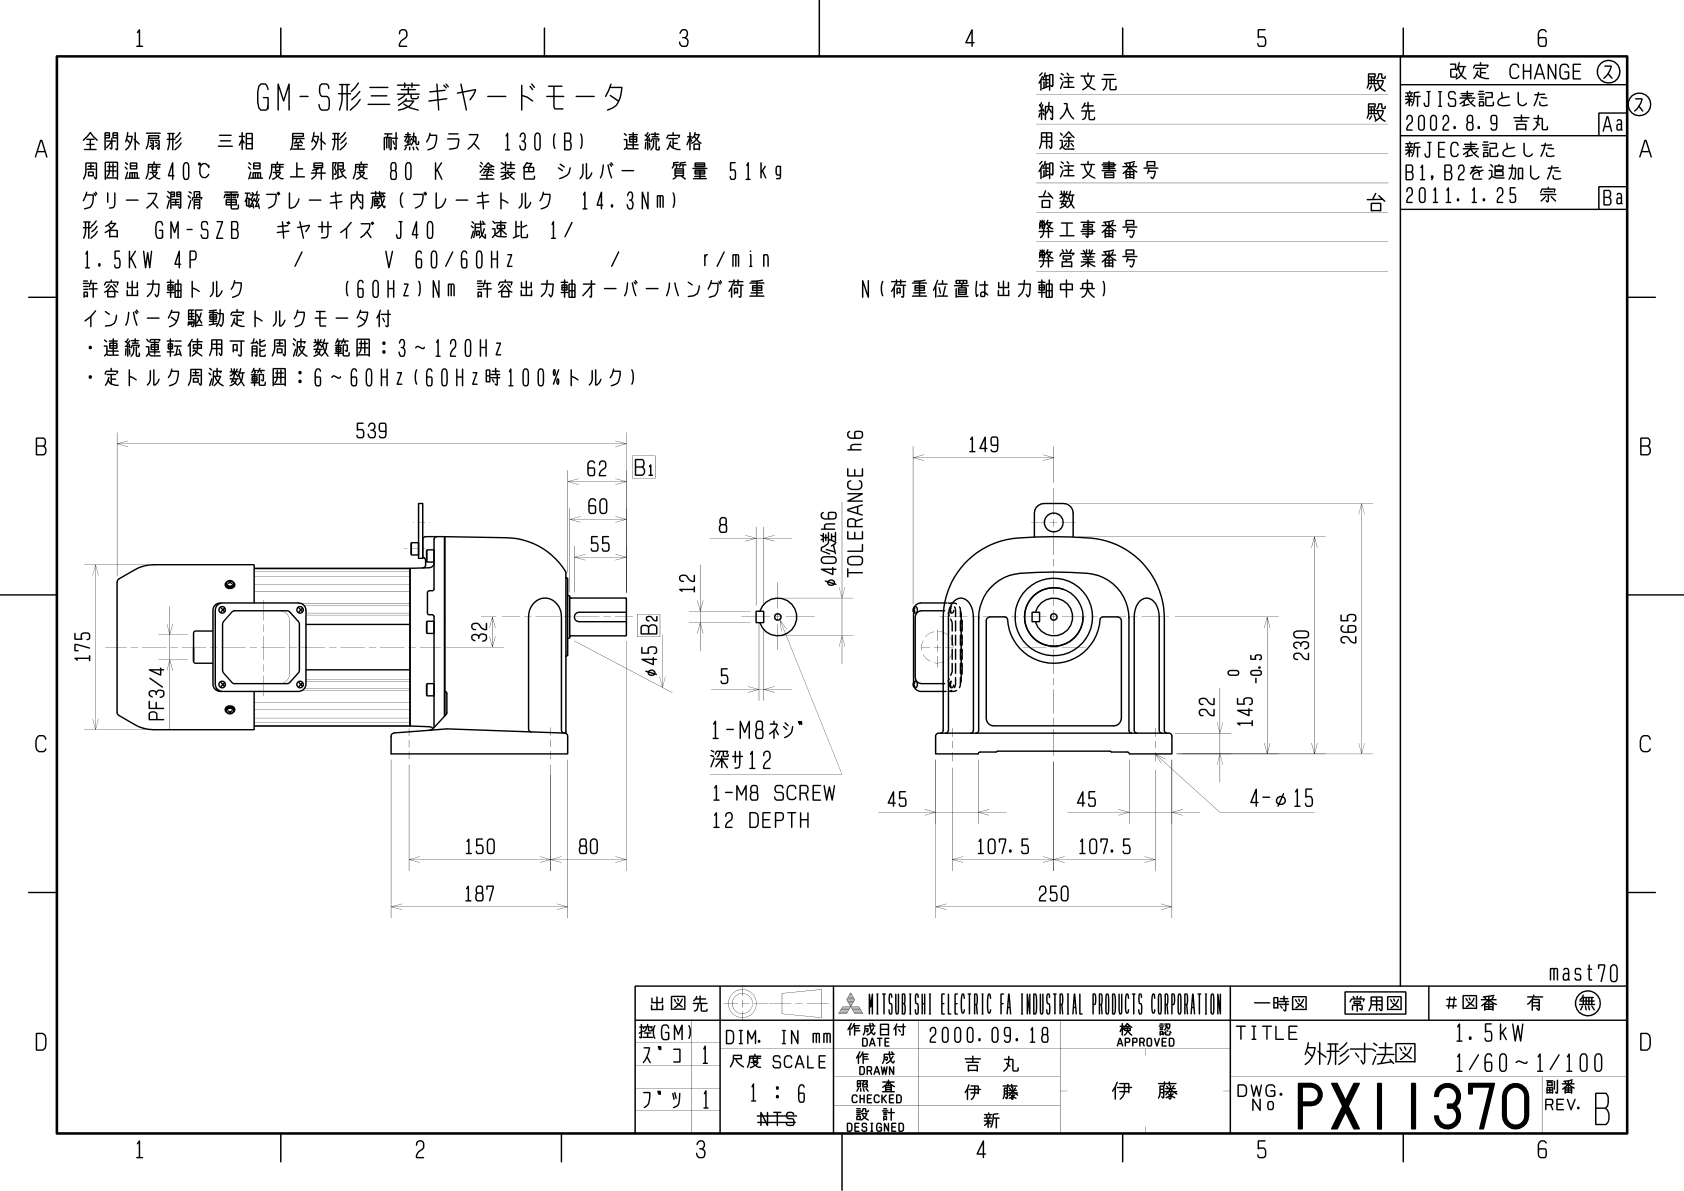GM_S_インバタ屋外＿三相_脚: (61, 402, 1386, 947)
